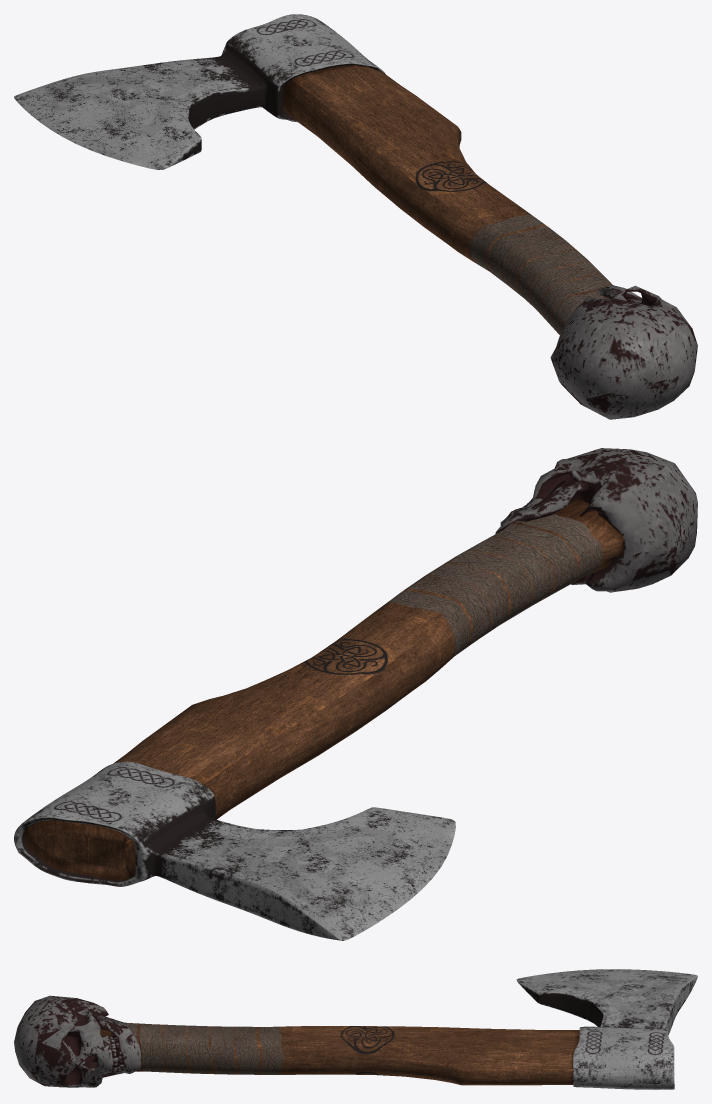
The model's file is axe.fbx.
3 views of the same model, one above another, from view 1: azimuth 30°, elevation 25°; view 2: azimuth 150°, elevation 25°; view 3: azimuth 270°, elevation 25° (orthographic). The views are drawn at different scales.
Parts seen in each view (by area): view 1: Plane; view 2: Plane; view 3: Plane.
Part boxes in pixels (x1=…): Plane: x1=14, y1=14, x2=697, y2=419; Plane: x1=14, y1=448, x2=697, y2=940; Plane: x1=14, y1=969, x2=697, y2=1089.
Size of the model in its own units: 327 by 108 by 841.
3 materials, 3 textured.
